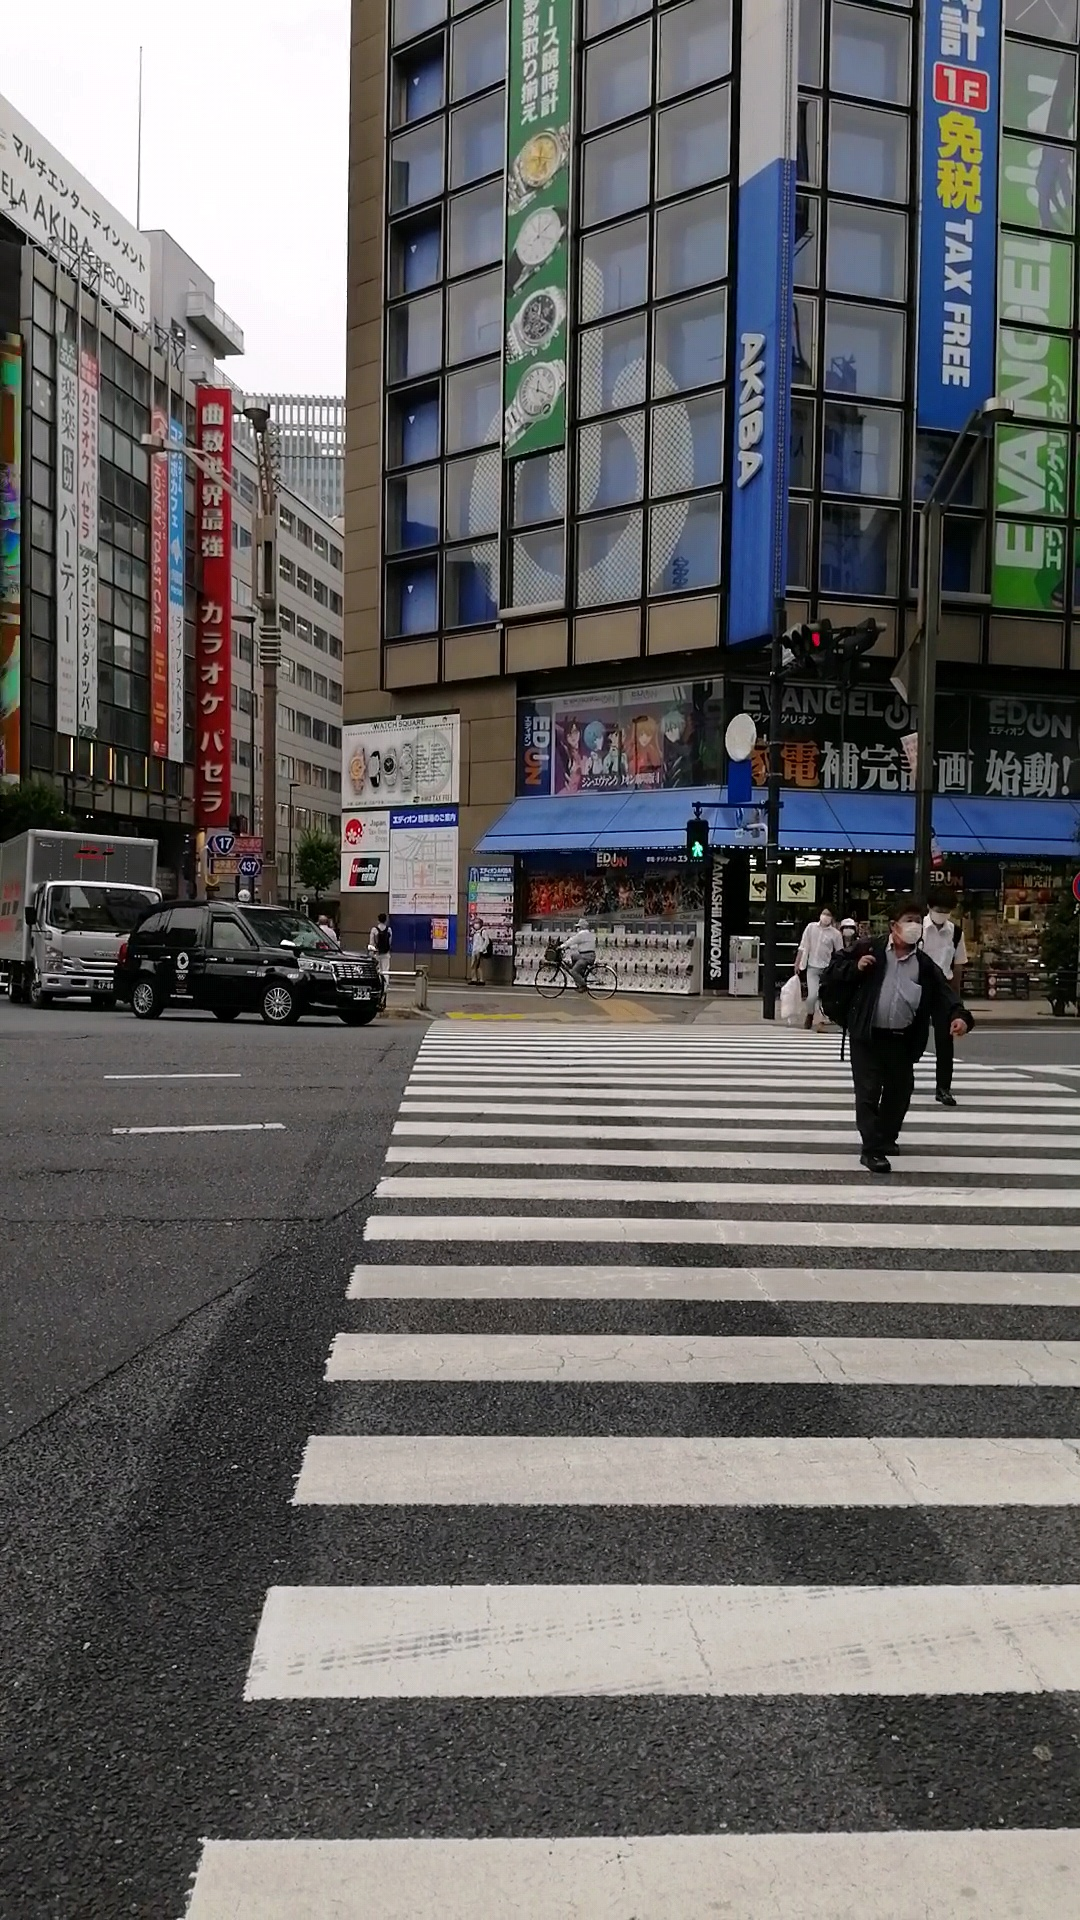green: (686, 820, 708, 858)
